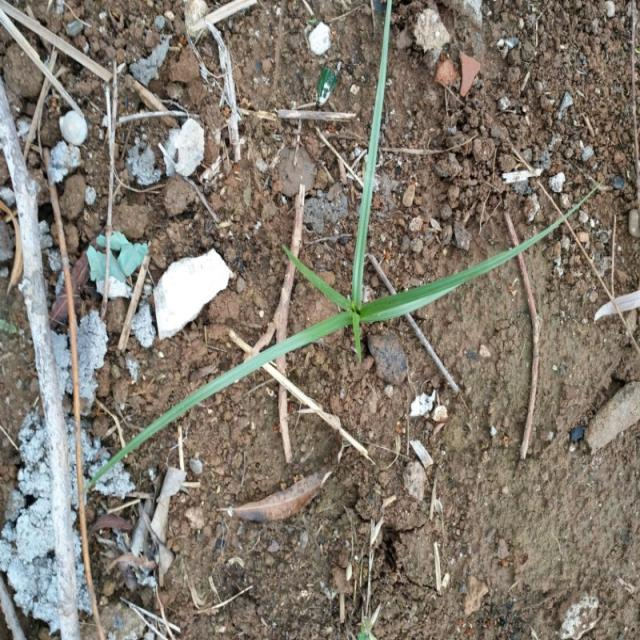sedge: (81, 65, 558, 488)
